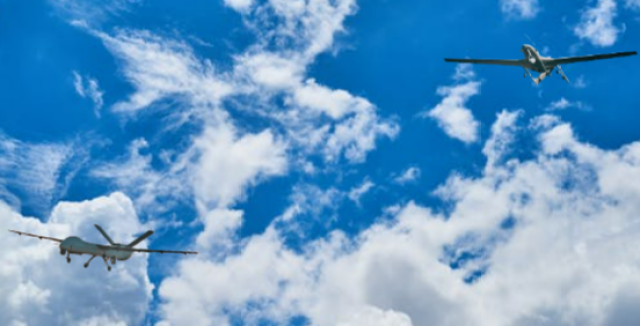military drone: (7, 224, 198, 271), (443, 43, 637, 86)
